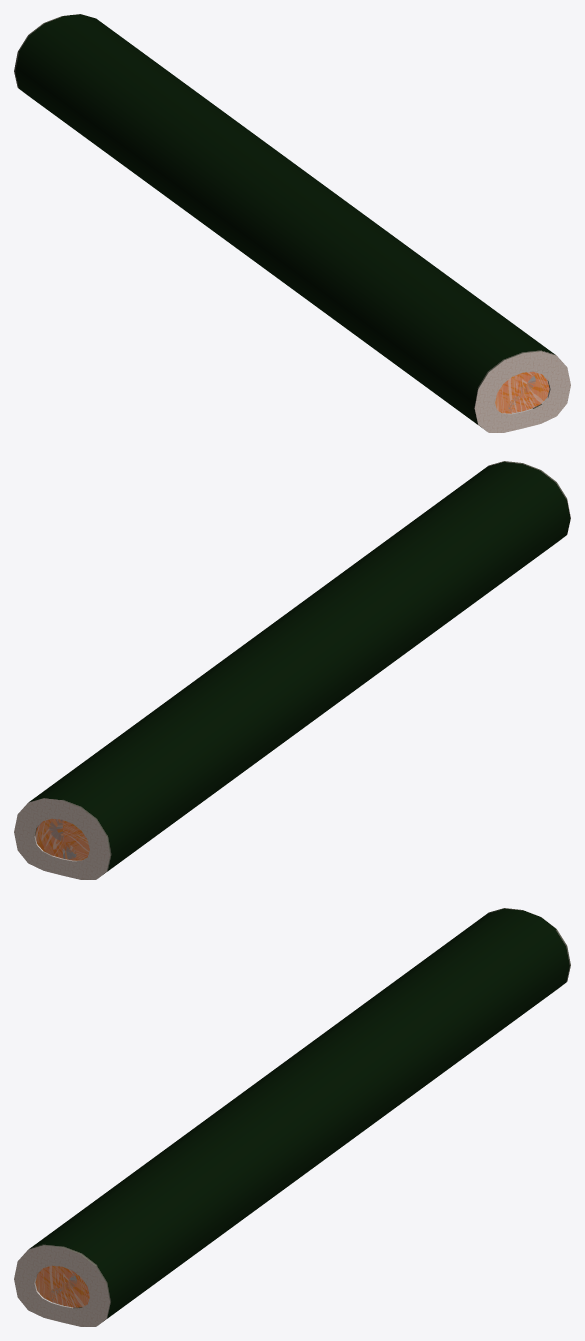
File: Chumaki 2 types.fbx
3 views of the same model, one above another, from view 1: azimuth 30°, elevation 25°; view 2: azimuth 150°, elevation 25°; view 3: azimuth 330°, elevation 25° (orthographic).
Parts seen in each view (by area): view 1: Cylinder, Cylinder.001, Cylinder.002; view 2: Cylinder, Cylinder.001, Cylinder.002; view 3: Cylinder, Cylinder.001, Cylinder.002.
Boxes of the visible parts, left/top/right/bottom form: Cylinder: left=14, top=14, right=570, bottom=432; Cylinder.001: left=508, top=371, right=549, bottom=412; Cylinder.002: left=495, top=372, right=534, bottom=413; Cylinder: left=14, top=461, right=570, bottom=879; Cylinder.001: left=35, top=818, right=76, bottom=858; Cylinder.002: left=51, top=820, right=89, bottom=860; Cylinder: left=14, top=908, right=570, bottom=1326; Cylinder.001: left=49, top=1270, right=89, bottom=1307; Cylinder.002: left=35, top=1265, right=76, bottom=1304.
Size of the model in its own units: 8.69 by 6.5 by 72.07.
